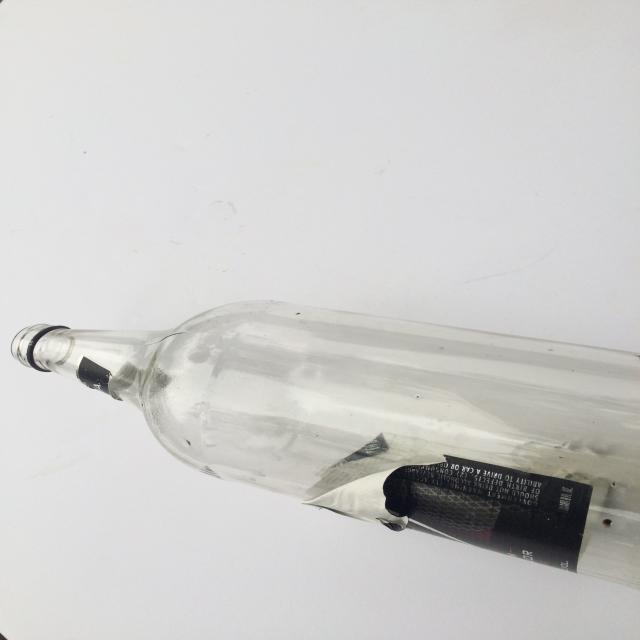glass: (10, 298, 640, 594)
